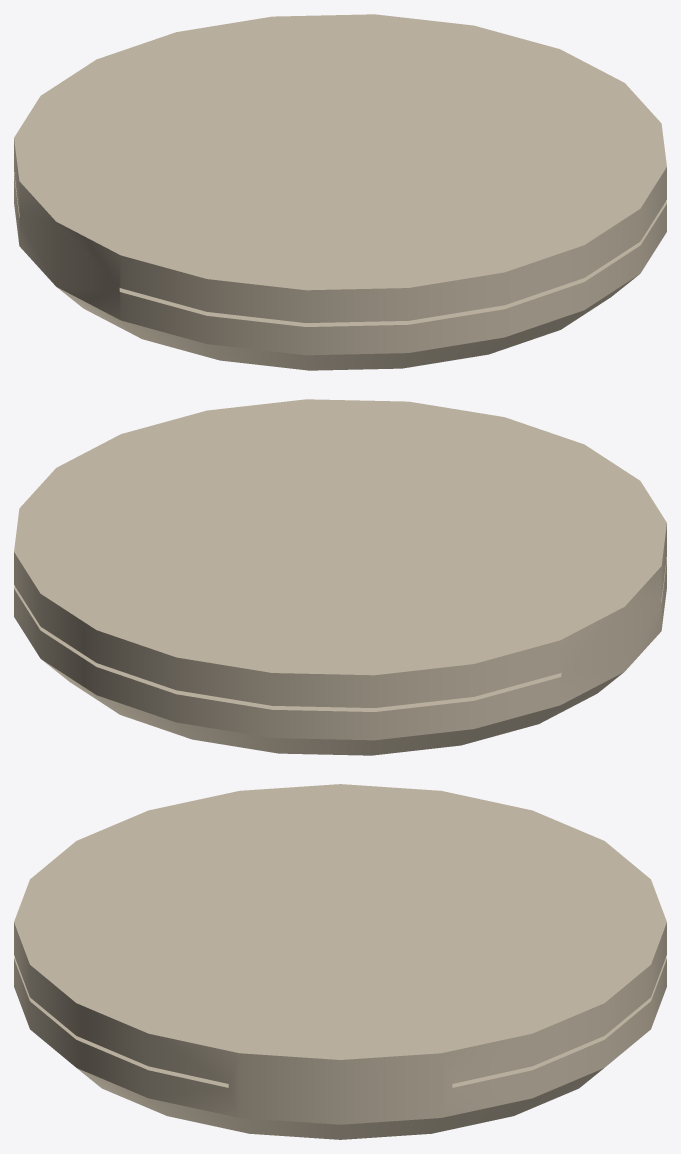
Rendered from Ceiling_Cover_LP.fbx.
The picture shows the model from 3 angles, top to bottom: view 1: azimuth 30°, elevation 25°; view 2: azimuth 150°, elevation 25°; view 3: azimuth 270°, elevation 25°; orthographic projection.
Parts seen in each view (by area): view 1: Ceiling_Cover; view 2: Ceiling_Cover; view 3: Ceiling_Cover.
Part boxes in pixels (x1,y1,x2,y2): Ceiling_Cover: [14, 14, 666, 370]; Ceiling_Cover: [14, 399, 666, 755]; Ceiling_Cover: [14, 784, 666, 1139].
Size of the model in its own units: 0.0716 by 0.0716 by 0.0113.
